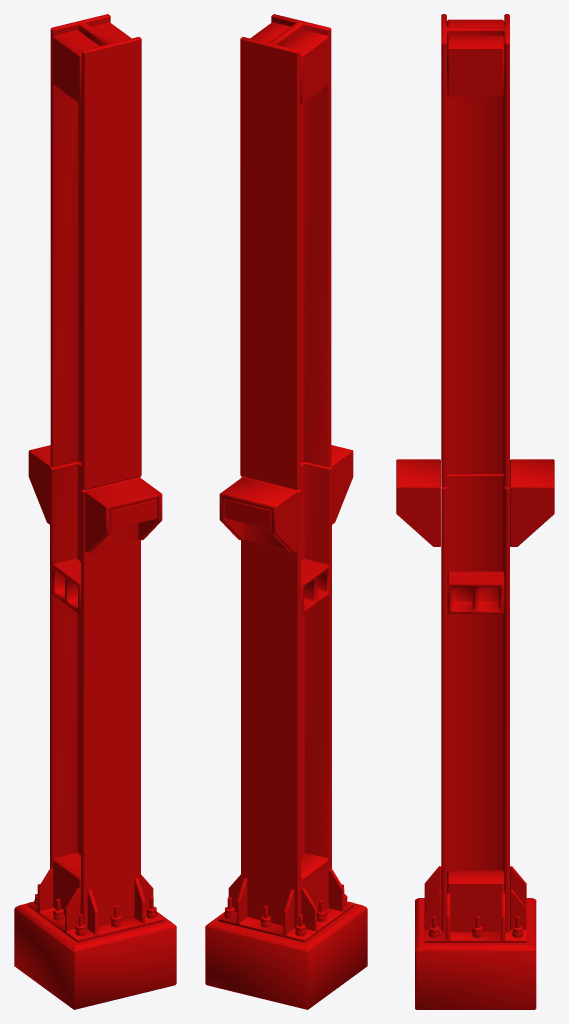
The picture shows the model from 3 angles, left to right: view 1: azimuth 30°, elevation 25°; view 2: azimuth 150°, elevation 25°; view 3: azimuth 270°, elevation 25°; orthographic projection.
Parts seen in each view (by area): view 1: Mesh; view 2: Mesh; view 3: Mesh.
Boxes of the visible parts, x1,y1,x2,y2 form: Mesh: (14, 14, 176, 1009); Mesh: (205, 14, 367, 1009); Mesh: (396, 14, 554, 1009).
Bounding box in the file's own units: 1.93 × 16.75 × 2.51.
